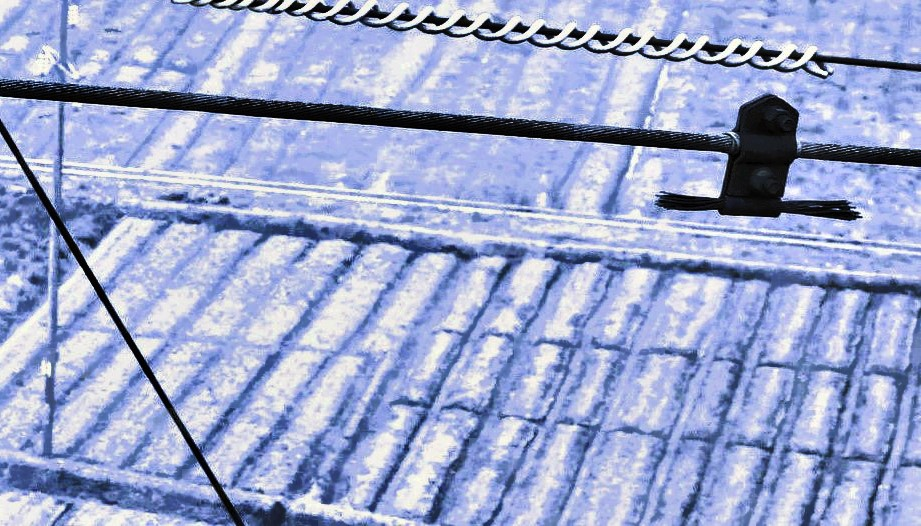Damage of shockproof hammer: (636, 84, 875, 229)
